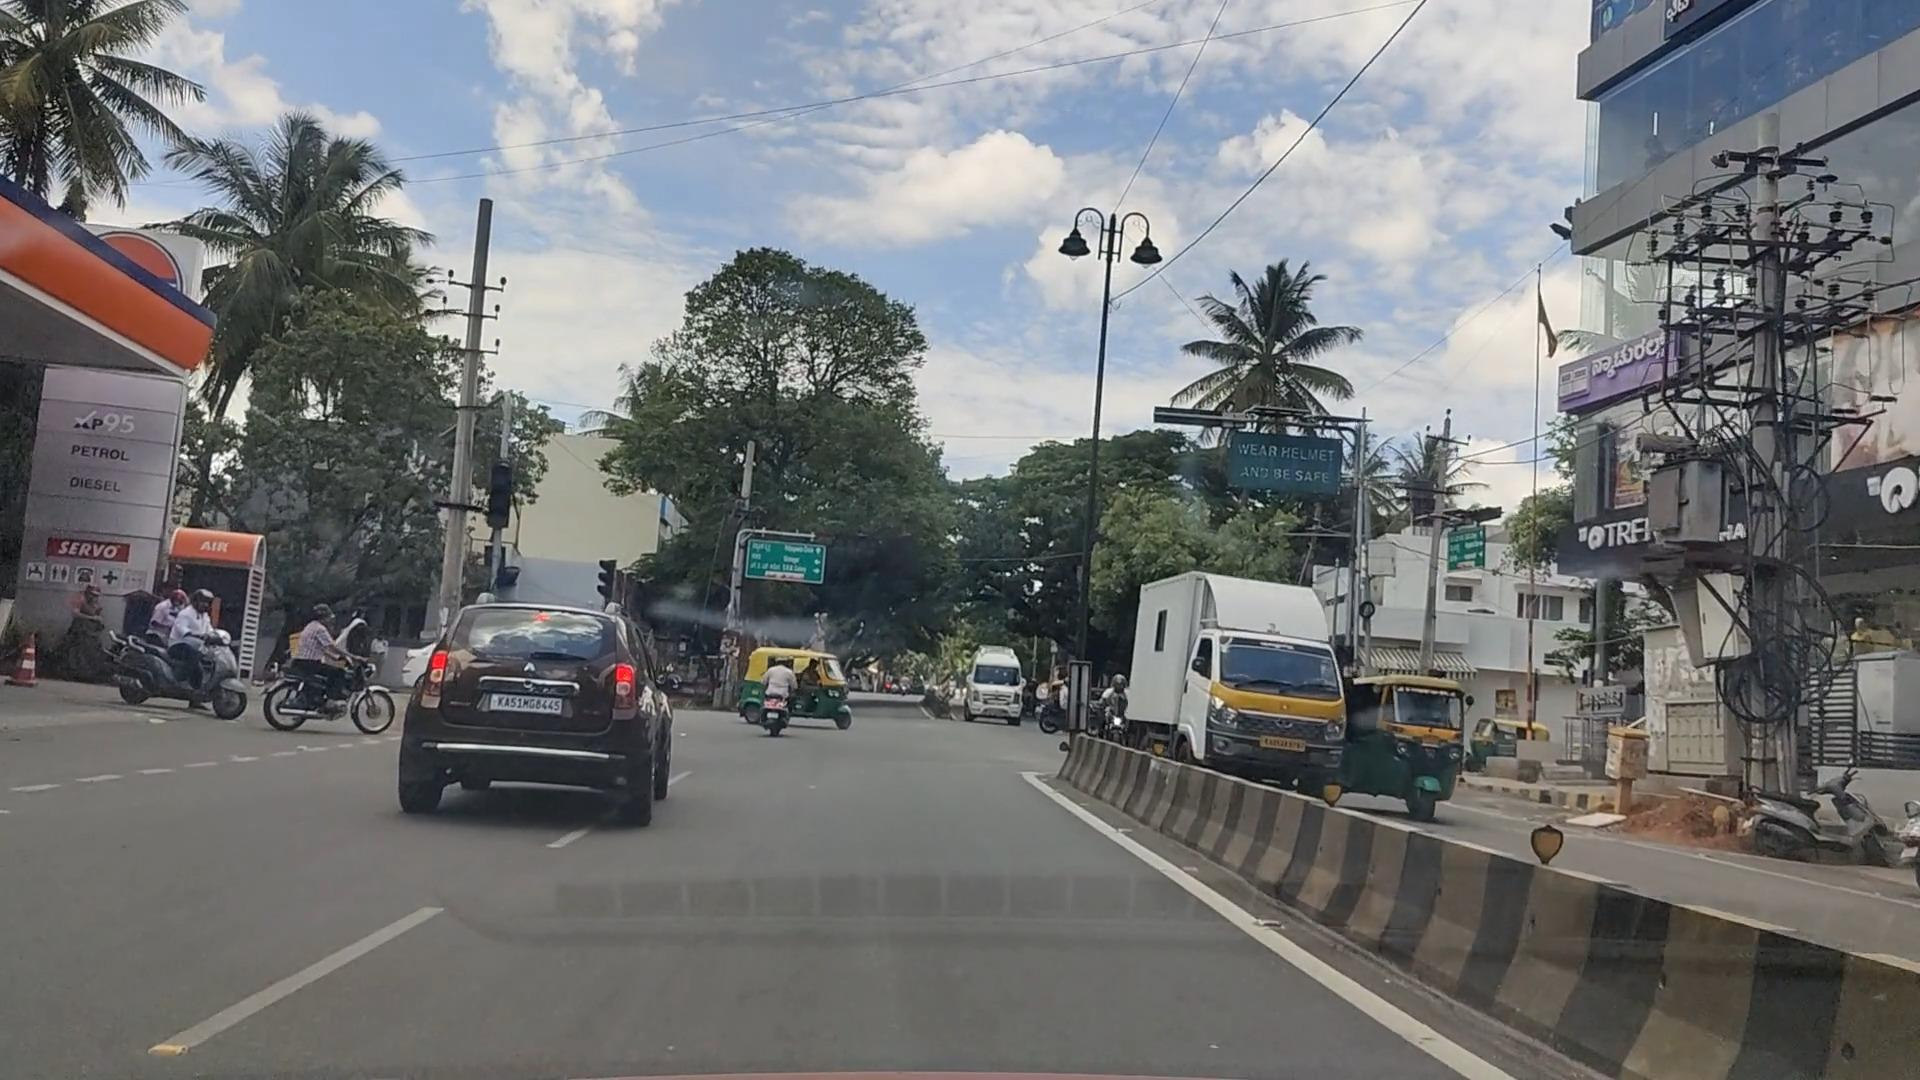LMV: (415, 575, 691, 831)
